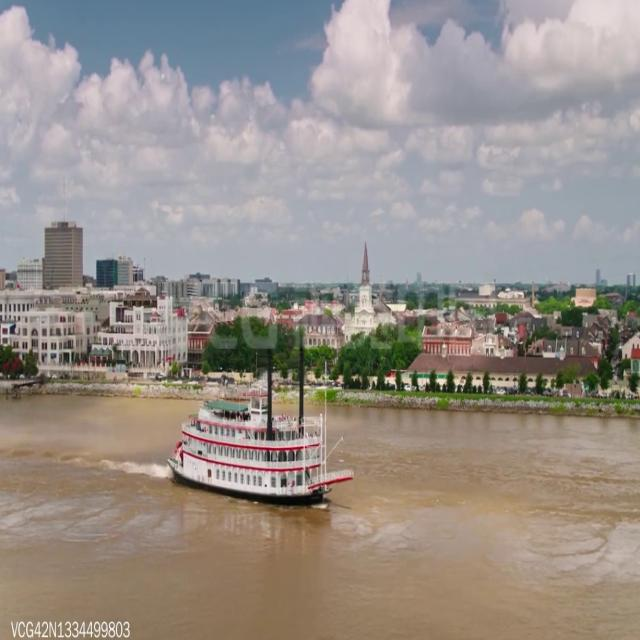passenger ship: (167, 389, 350, 509)
